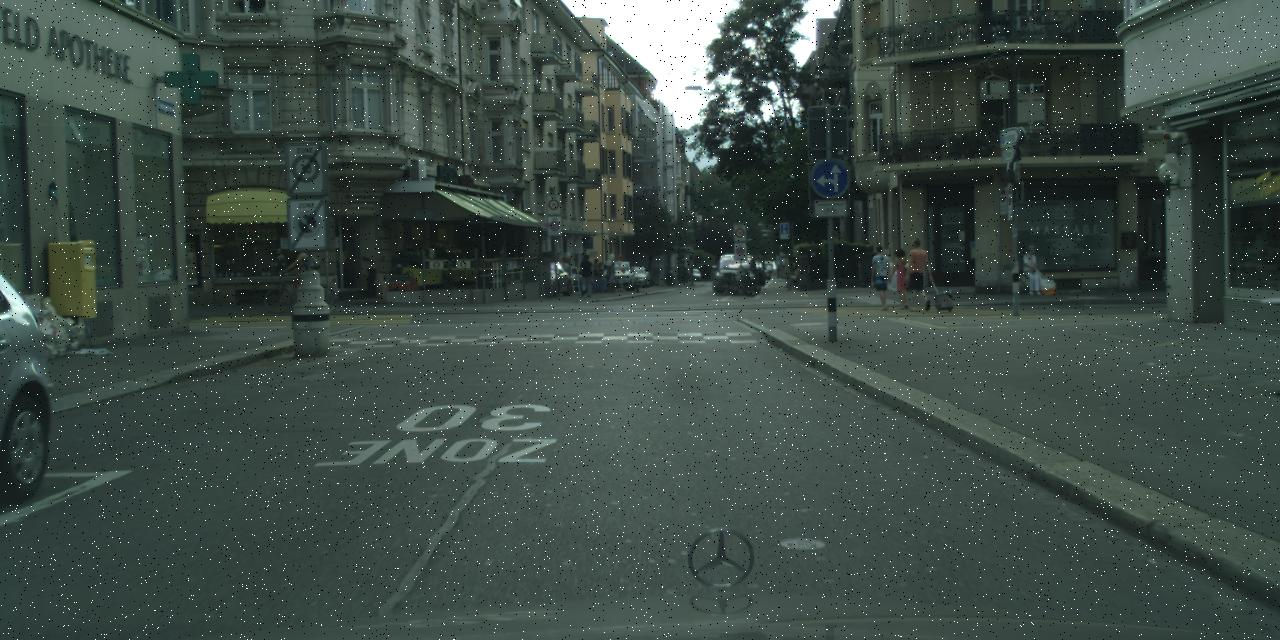ped: (904, 238, 932, 309), (868, 244, 895, 310), (289, 241, 314, 301), (889, 247, 913, 307), (578, 254, 594, 295), (588, 258, 601, 290), (604, 261, 616, 291), (594, 261, 604, 289)
